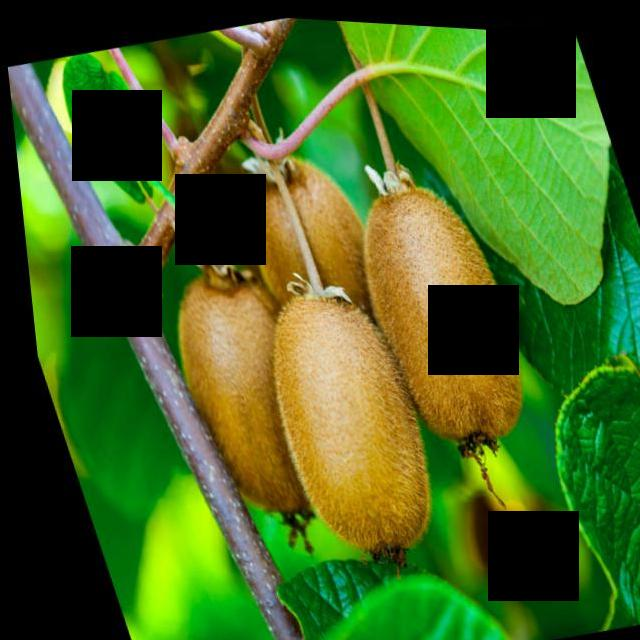kiwi: (319, 152, 544, 470), (230, 261, 453, 569), (136, 239, 343, 547), (217, 128, 401, 366)
